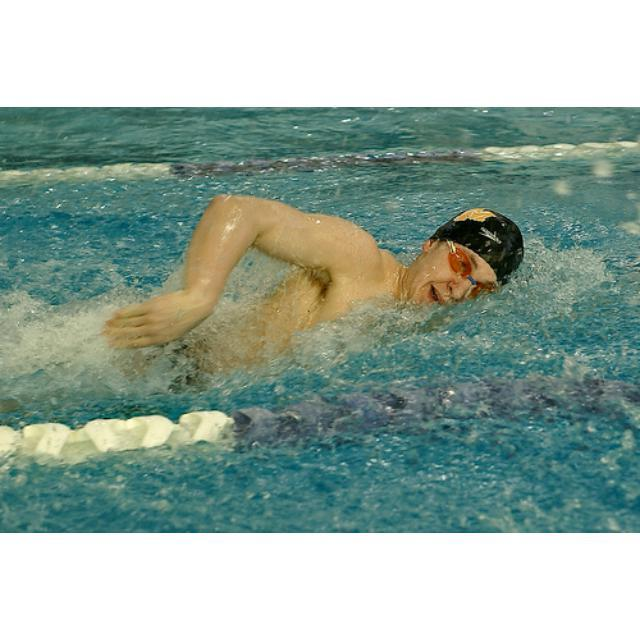human: (100, 202, 527, 391)
